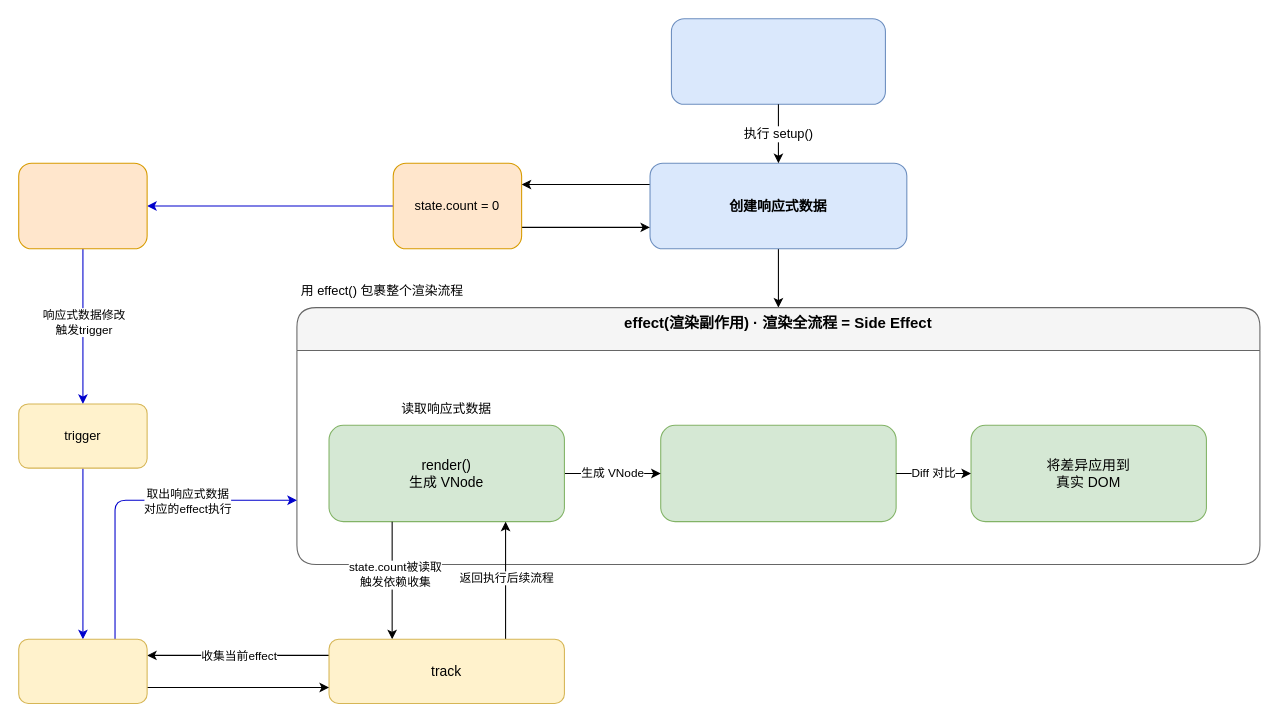
Some shapes in this 1279 by 722 pixel diagram are drawn without their labels. The shapes that lost their labels are listed below. From the top down, each one's centre as x and y in pixels, then its label:
At pixel 777 61: "组件 挂载流程".
At pixel 82 205: "state.count = 1".
At pixel 778 473: "diff() 新旧 VNode 对比".
At pixel 82 671: "state:[effect1]".
